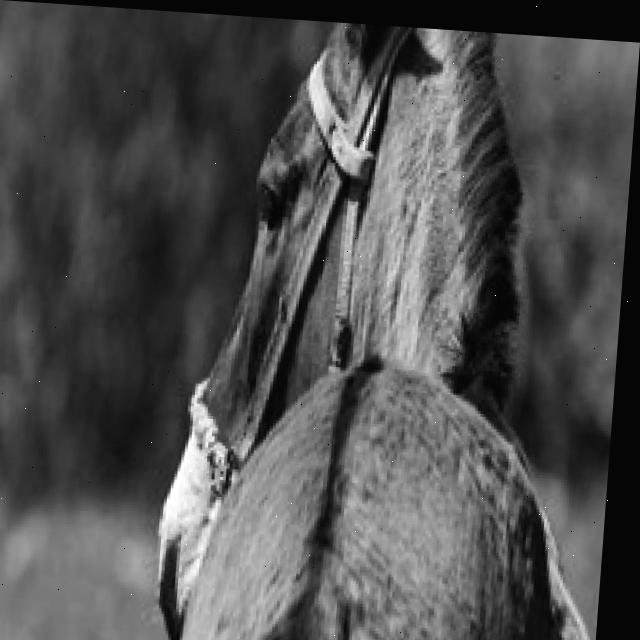Donkey: (147, 13, 637, 640)
